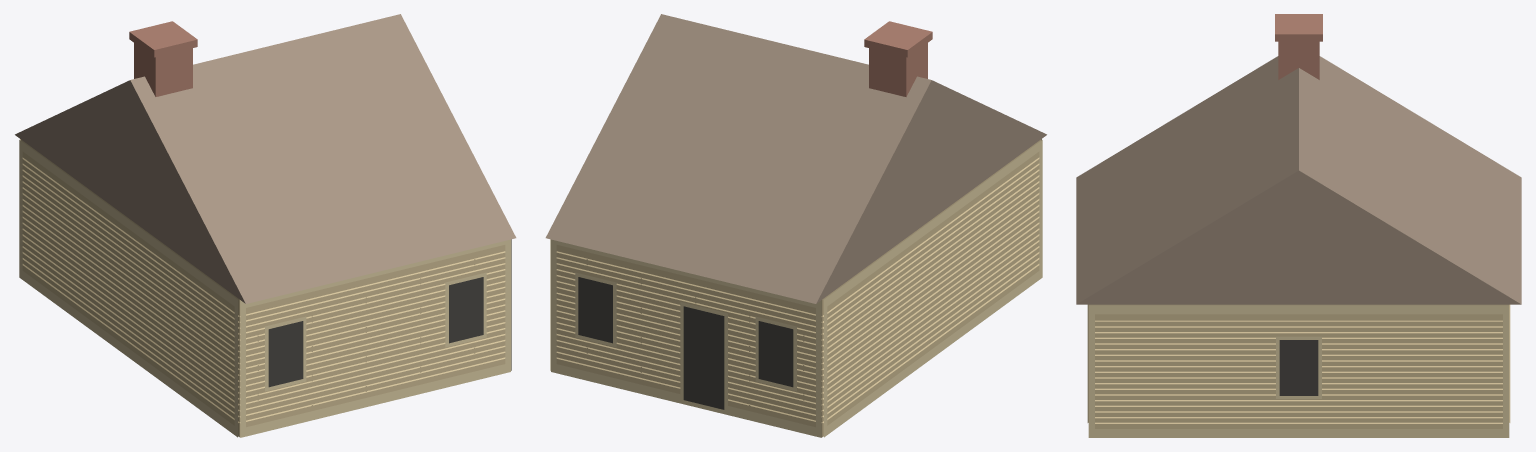
File: recon_1835_west_053__inferred_1835.glb
3 renders of one model, left to right at view 1: azimuth 30°, elevation 25°; view 2: azimuth 150°, elevation 25°; view 3: azimuth 270°, elevation 25°, orthographic. The views are drawn at different scales.
Parts seen in each view (by area): view 1: recon_1835_west_053__inferred_1835; view 2: recon_1835_west_053__inferred_1835; view 3: recon_1835_west_053__inferred_1835.
Part boxes in pixels (<box>): recon_1835_west_053__inferred_1835: <box>15,14,516,437</box>; recon_1835_west_053__inferred_1835: <box>545,14,1046,437</box>; recon_1835_west_053__inferred_1835: <box>1076,14,1521,437</box>.
Bounding box in the file's own units: 6.18 × 6.75 × 9.03.
